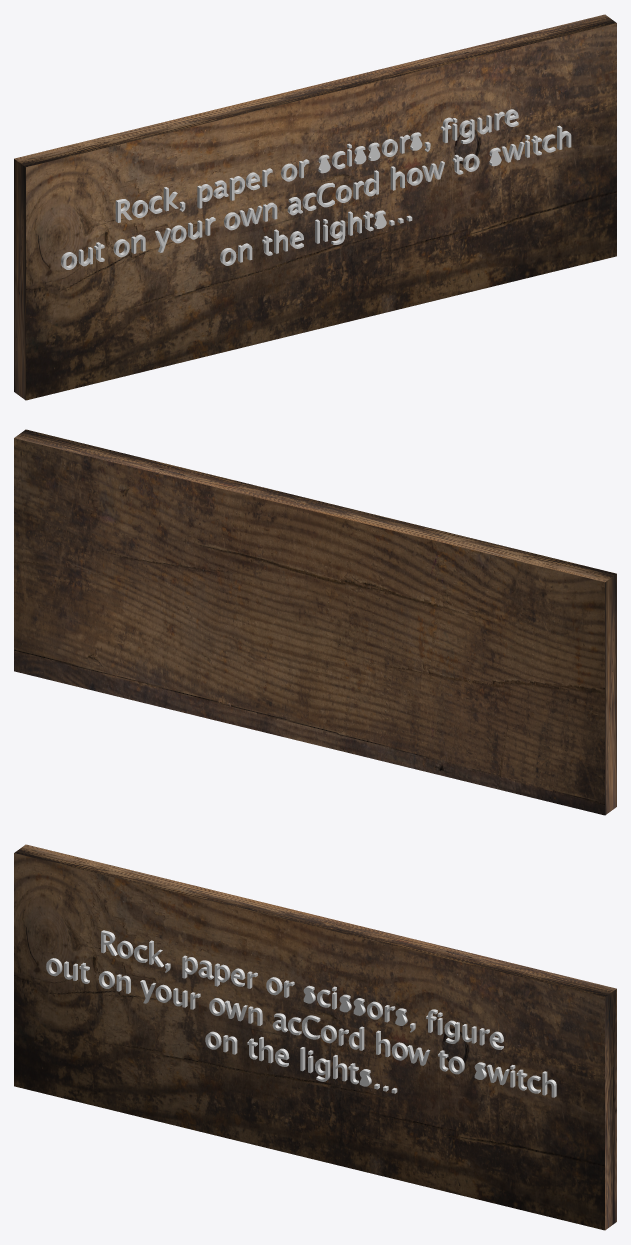
File: text scissors cord.fbx
The picture shows the model from 3 angles, top to bottom: view 1: azimuth 30°, elevation 25°; view 2: azimuth 150°, elevation 25°; view 3: azimuth 330°, elevation 25°; orthographic projection.
Visible parts, largest first — view 1: pCube1, typeMesh2; view 2: pCube1; view 3: pCube1, typeMesh2.
Part boxes in pixels (box(x1,y1,x2,y2)): pCube1: box(14, 14, 616, 400); typeMesh2: box(61, 109, 571, 269); pCube1: box(14, 429, 616, 815); pCube1: box(14, 844, 616, 1230); typeMesh2: box(46, 930, 556, 1097).
Size of the model in its own units: 3.56 by 1.34 by 0.1518.
Materials: 2 (1 with a texture image).
